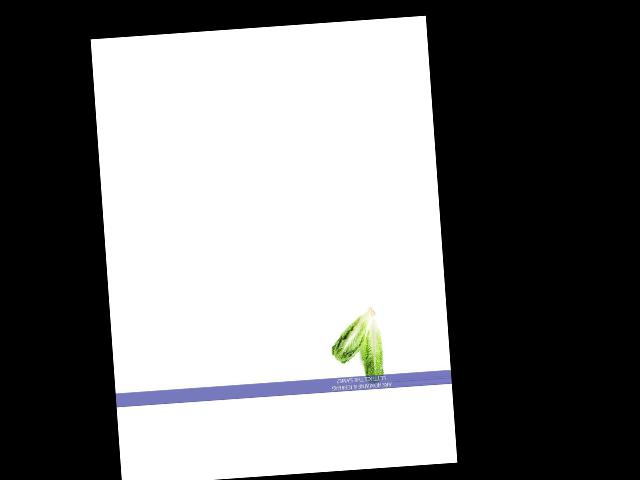lettuce: (329, 306, 381, 368)
